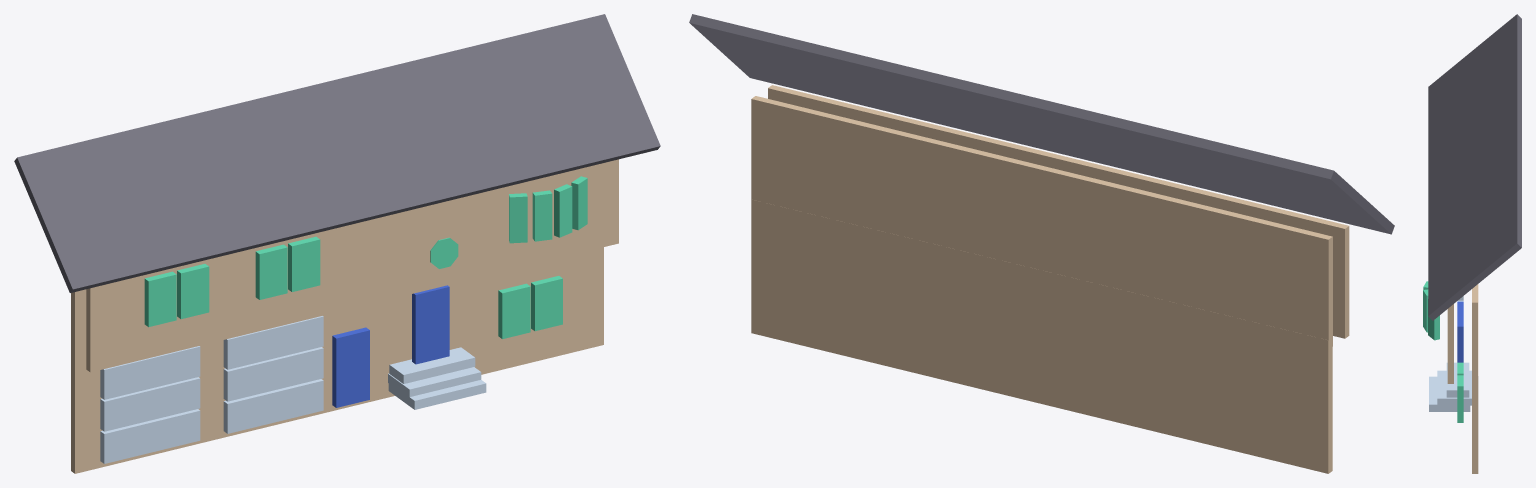
The model's file is home-front.glb.
The picture shows the model from 3 angles, left to right: view 1: azimuth 30°, elevation 25°; view 2: azimuth 150°, elevation 25°; view 3: azimuth 270°, elevation 25°; orthographic projection. The views are drawn at different scales.
Visible parts, largest first — view 1: Cube.016, Cube.014, Cube.015, Cube.021, Cube.024, Cube.001, Cube.022, Cube.020, Cube.023, Cube.002, Cube.003, Cube.006 (+13 smaller); view 2: Cube.015, Cube.014, Cube.016; view 3: Cube.016, Cube.014, Cube.015, Cube.018, Cube.017, Cube.019, Cube.003, Cube.009, Cube.013, Cube.011.
Part boxes in pixels (bbox=[...]): Cube.016: bbox=[14, 14, 660, 292]; Cube.014: bbox=[71, 159, 618, 372]; Cube.015: bbox=[71, 247, 603, 473]; Cube.021: bbox=[223, 379, 323, 433]; Cube.024: bbox=[100, 409, 200, 463]; Cube.001: bbox=[223, 347, 323, 401]; Cube.022: bbox=[100, 377, 200, 431]; Cube.020: bbox=[223, 316, 323, 369]; Cube.023: bbox=[100, 346, 200, 399]; Cube.002: bbox=[332, 327, 369, 407]; Cube.003: bbox=[412, 285, 449, 364]; Cube.006: bbox=[255, 244, 287, 299]; Cube.015: bbox=[751, 199, 1332, 473]; Cube.014: bbox=[751, 85, 1349, 348]; Cube.016: bbox=[689, 14, 1394, 234]; Cube.016: bbox=[1428, 14, 1521, 320]; Cube.014: bbox=[1447, 284, 1477, 383]; Cube.015: bbox=[1472, 284, 1478, 473]; Cube.018: bbox=[1437, 370, 1471, 405]; Cube.017: bbox=[1446, 362, 1469, 397]; Cube.019: bbox=[1429, 376, 1470, 411]; Cube.003: bbox=[1457, 313, 1463, 362]; Cube.009: bbox=[1457, 375, 1463, 422]; Cube.013: bbox=[1428, 298, 1439, 340]; Cube.011: bbox=[1423, 289, 1428, 332].
Bounding box in the file's own units: 12.23 × 6.02 × 2.23.
